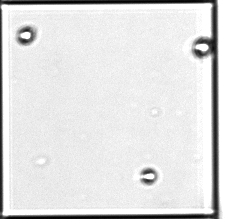Living Cell: (193, 36, 213, 58), (17, 25, 36, 46), (140, 167, 158, 185)
